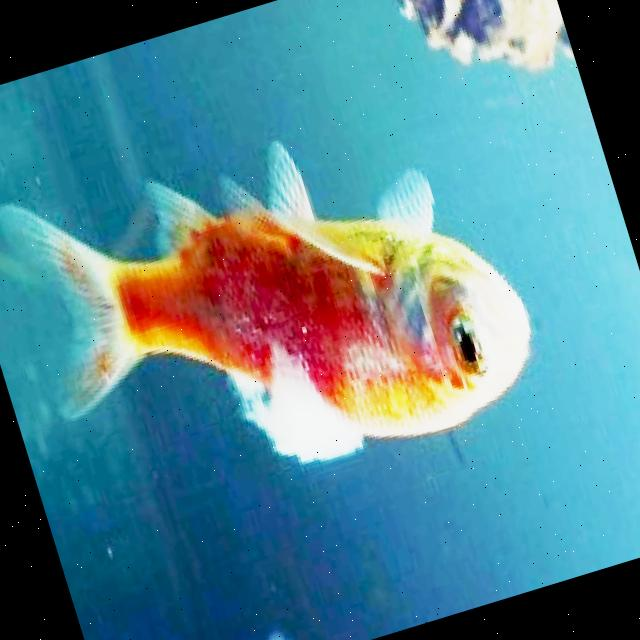Fungal Disease -Saprolegniasis-: (0, 142, 528, 459), (10, 143, 528, 459), (0, 182, 527, 458), (0, 183, 526, 458), (0, 184, 528, 437)
